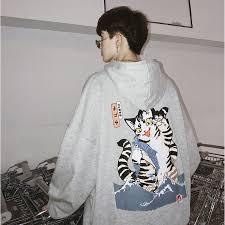sweater: (47, 61, 199, 223)
